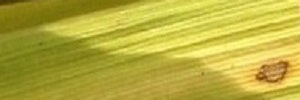RiceBrownSpot: (238, 47, 300, 100)
